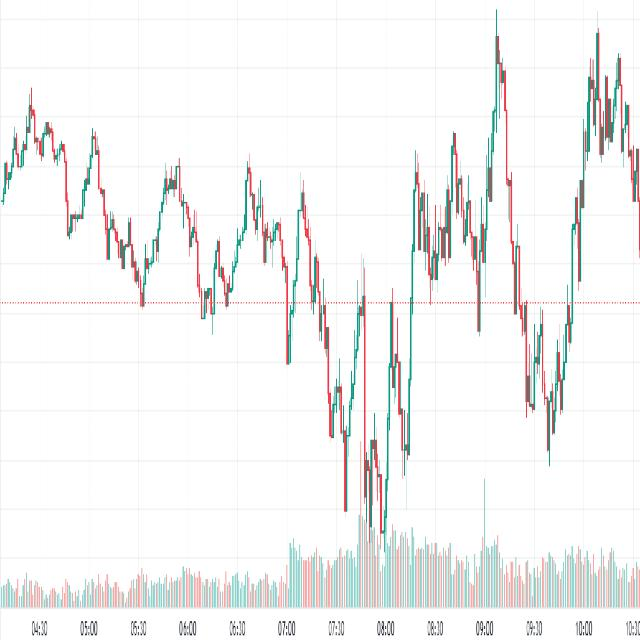Channel-down: (0, 29, 343, 384)
Double-Bottom: (359, 420, 392, 548)
Falling-Wedge: (69, 105, 153, 324)
